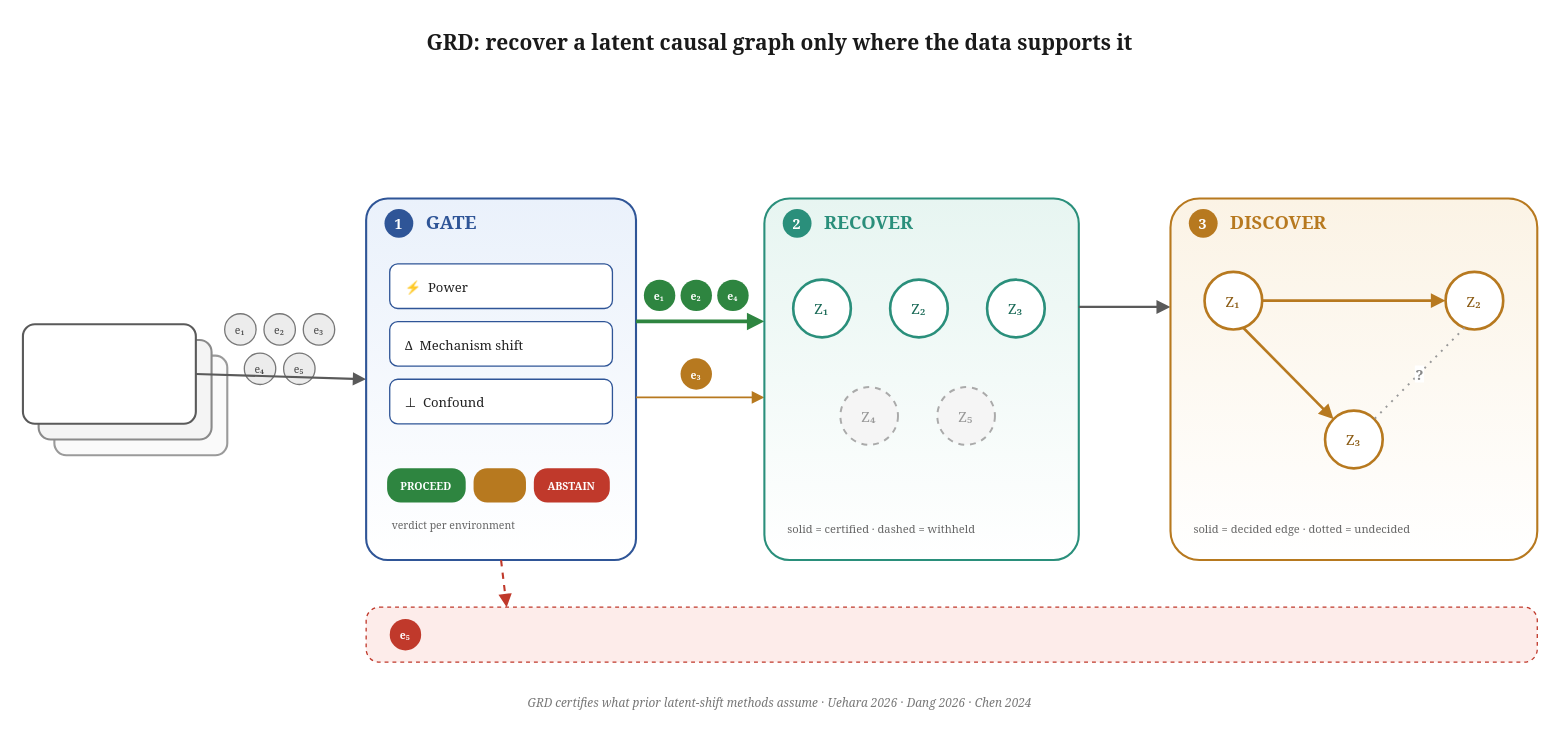
This 1562x741 diagram has some shape labels left out. Each missing label, with the box of its shape:
CAP: (473, 468, 525, 502)
m environments X = A·Z + ε Z unknown: (21, 323, 196, 424)
⚠ ABSTAIN: no unsupported graph is reported: (365, 606, 1537, 662)
